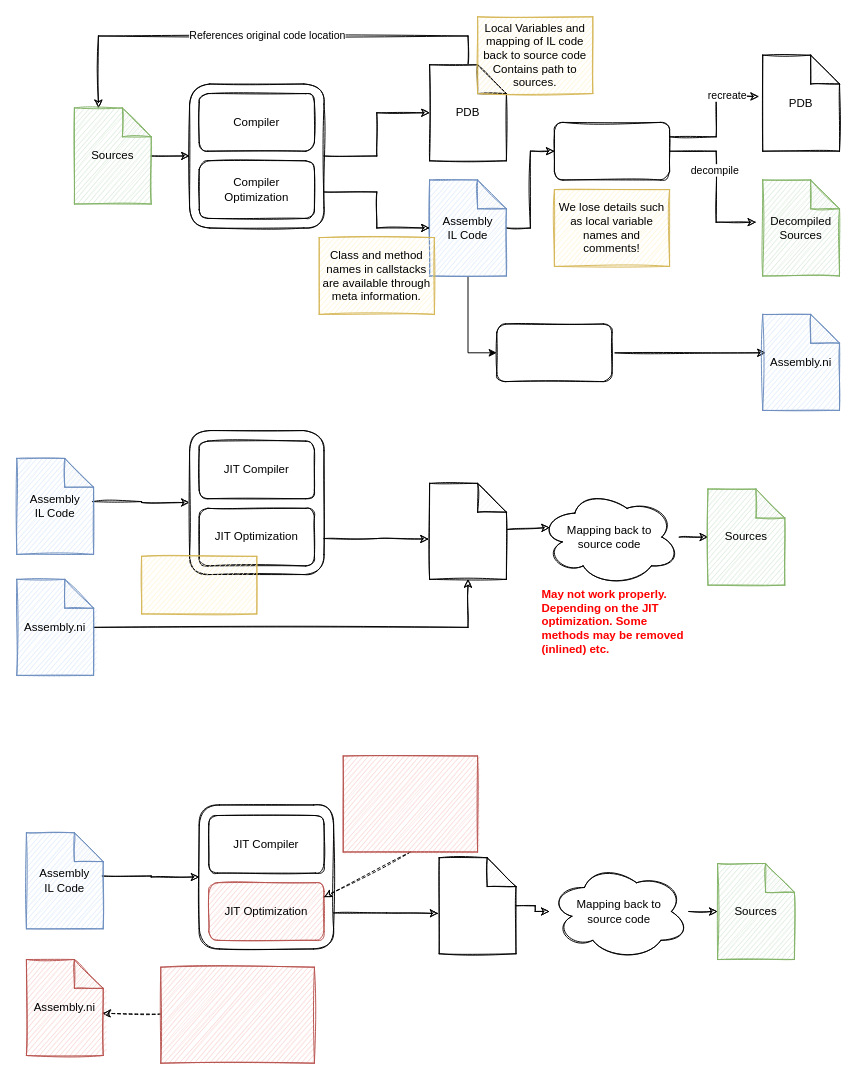
The diagram is 856 pixels wide and 1080 high, and some of its shapes have lost their labels. Each missing label, with the box of its shape:
Decompiler: (553, 121, 670, 180)
Environment Variable COMPlus_ZapDisable=1 .NET Core COMPlus_ReadyT oRun =0: (160, 966, 314, 1063)
Here most of the optimization happens: (141, 555, 257, 614)
NGEN: (496, 323, 612, 382)
Not optimized Machine Code: (438, 857, 516, 954)
Optimized Machine Code: (429, 482, 506, 579)
VS Debugger "Suppress Jit Optimization" Disable "Just My Code": (342, 755, 478, 852)
